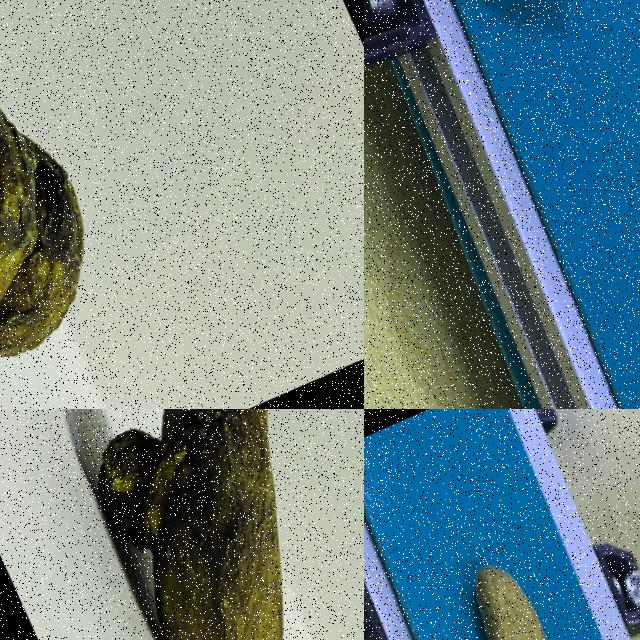Agglomerated_cocoabeans: (0, 409, 363, 639), (0, 0, 185, 408), (376, 0, 639, 129)
Fine_cocoabeans: (399, 506, 600, 639)
